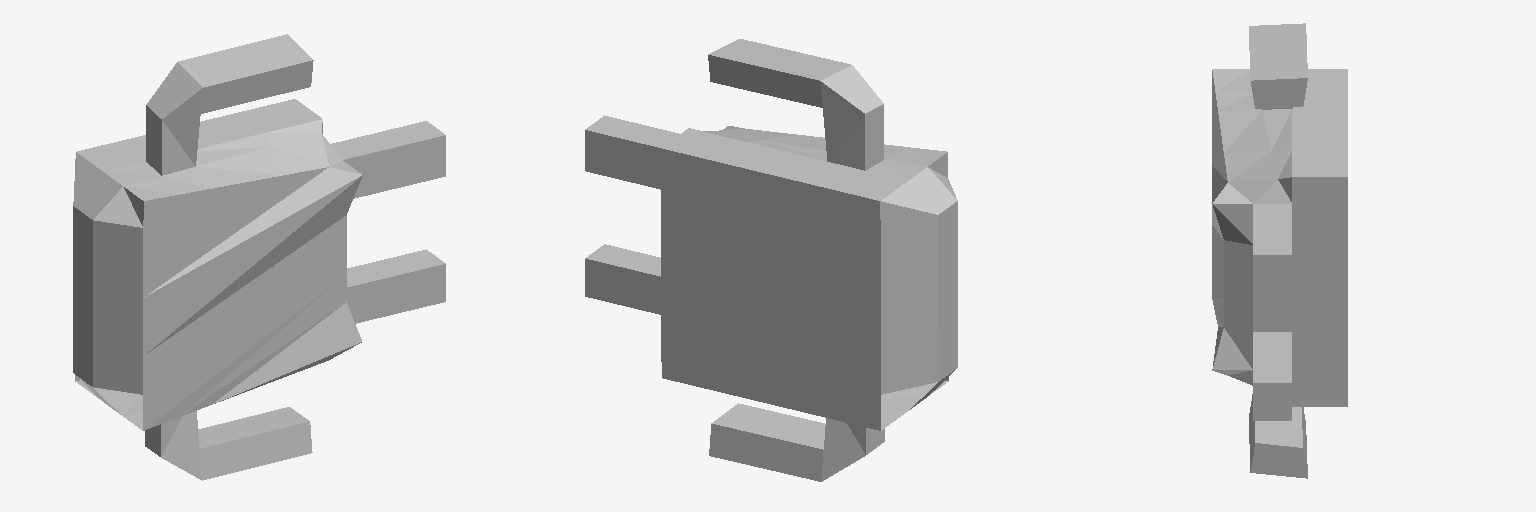
The model's file is turret.obj.
The picture shows the model from 3 angles: view 1: azimuth 30°, elevation 25°; view 2: azimuth 150°, elevation 25°; view 3: azimuth 270°, elevation 25°; orthographic projection.
Parts seen in each view (by area): view 1: Object.1; view 2: Object.1; view 3: Object.1.
Boxes of the visible parts, box(x1,y1,x2,y2) form: Object.1: box(73, 34, 445, 480); Object.1: box(585, 39, 957, 481); Object.1: box(1212, 23, 1347, 478).
Size of the model in its own units: 43.74 by 47.42 by 14.5.